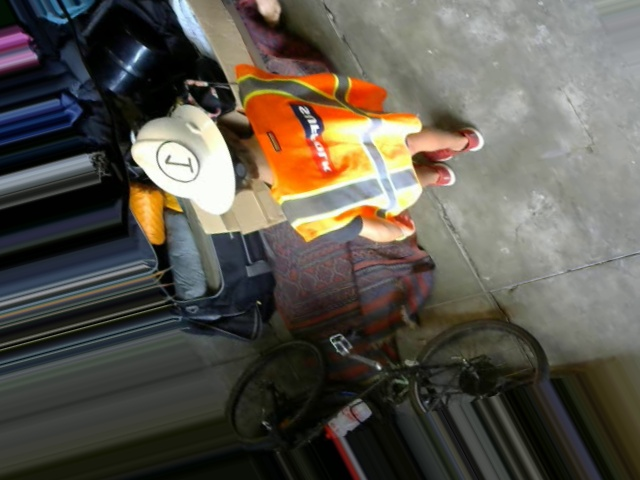one: (148, 137, 205, 186)
